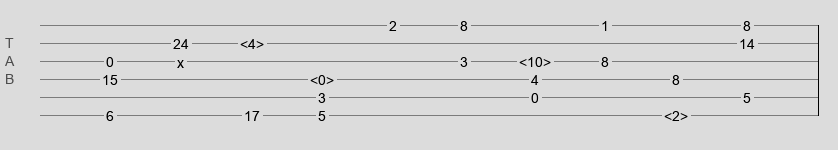0: (106, 54, 114, 64), (531, 90, 539, 100)
1: (601, 18, 609, 28)
14: (739, 36, 755, 46)
15: (102, 72, 118, 82)
17: (244, 108, 260, 118)
2: (389, 18, 397, 28)
24: (173, 36, 189, 46)
3: (318, 90, 326, 100), (460, 54, 468, 64)
4: (531, 72, 539, 82)
5: (318, 108, 326, 118), (743, 90, 751, 100)
6: (106, 108, 114, 118)
8: (460, 18, 468, 28), (601, 54, 609, 64), (672, 72, 680, 82), (743, 18, 751, 28)
harmonic: (519, 54, 551, 64), (240, 36, 264, 46), (310, 72, 334, 82), (664, 108, 688, 118)
x: (177, 55, 184, 63)
